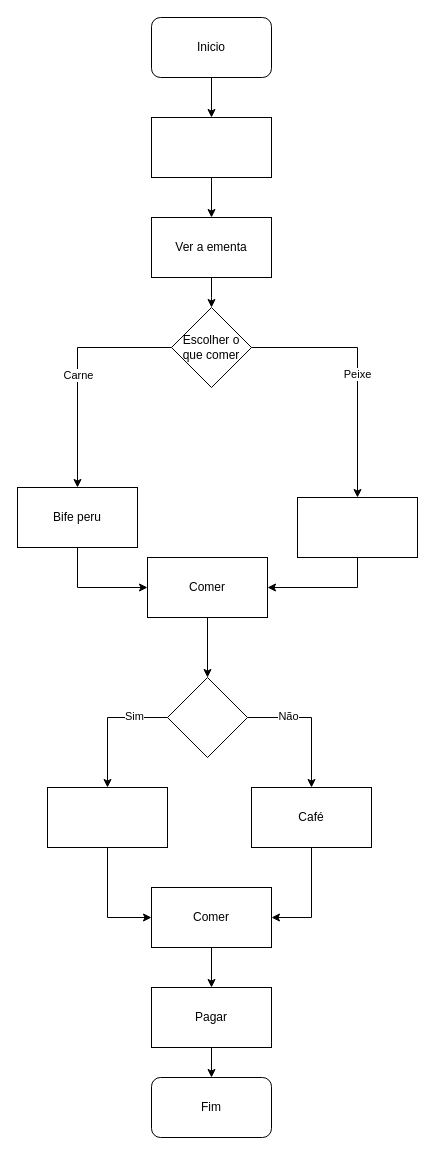
This 435x1155 diagram has some shape labels left out. The centre of each missing label's shape, as x and y in pixels:
Cheescake: the point at 107,817
Entrar no restaurante: the point at 211,147
Salmão: the point at 357,527
Sobremesa?: the point at 207,717
